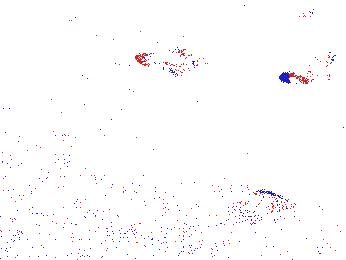X-ray fish: (226, 184, 298, 225)
red belly glassfish: (278, 63, 324, 87), (277, 5, 315, 22)
redtail glassfish: (132, 44, 203, 76), (315, 48, 338, 83)
